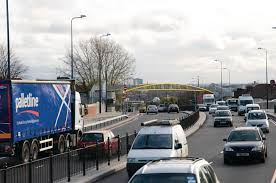bridge: (125, 83, 212, 98)
